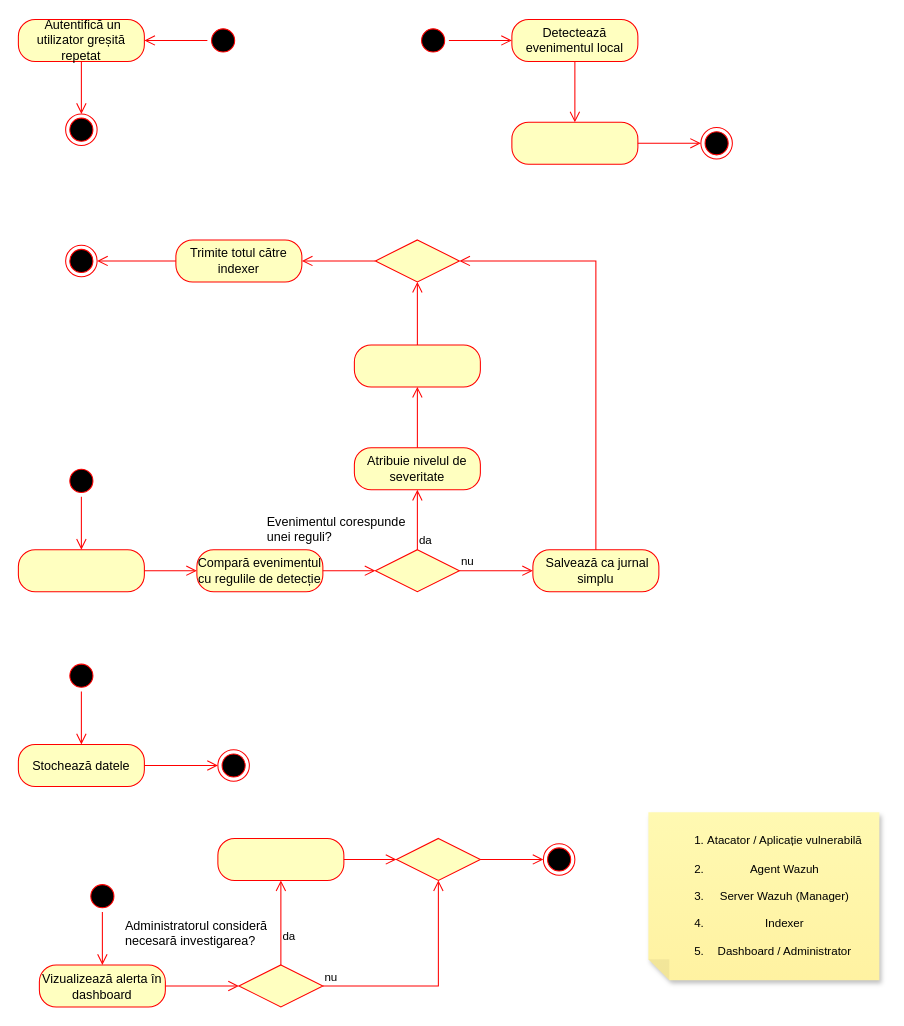
Image size: 904x1026. Some labels were removed from this diagram. The shapes that lost their labels are listed below. From the top down, each one's centre as x and y in pixels, then its label:
At (574,142): "Trimite evenimentul către server".
At (416,365): "Generează alerta".
At (80,570): "Decodifică evenimentul".
At (280,858): "Investighează evenimentul".
